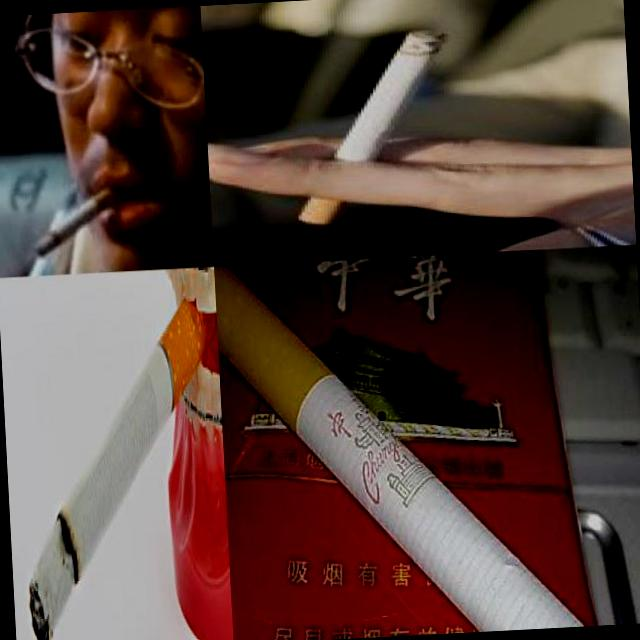smoke: (214, 244, 640, 640), (13, 303, 225, 640), (287, 26, 456, 229), (32, 183, 122, 257)
